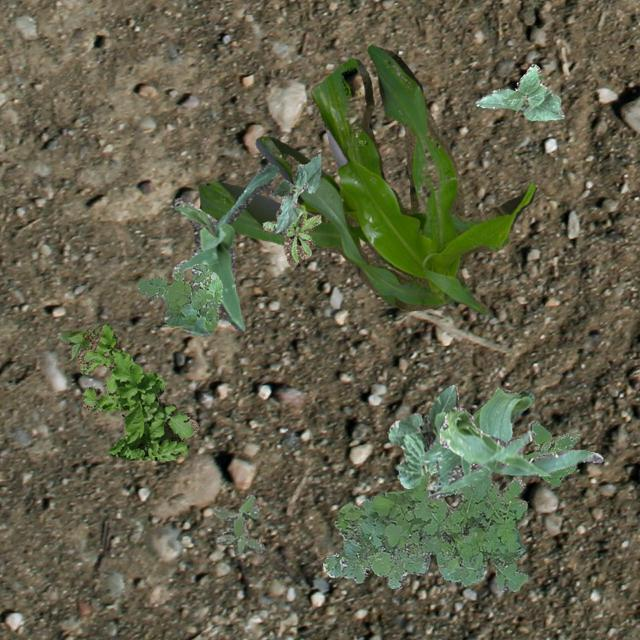crop: (198, 44, 536, 312), (170, 164, 278, 336), (418, 386, 534, 498), (438, 406, 602, 474), (386, 384, 461, 488), (474, 64, 564, 120), (269, 152, 319, 232), (59, 328, 100, 358)
weed: (322, 472, 526, 590), (77, 322, 196, 459), (138, 262, 222, 330), (520, 420, 578, 486), (262, 204, 320, 266), (212, 494, 264, 554)
